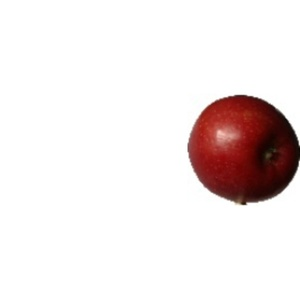maçã braeburn: (186, 93, 300, 201)
